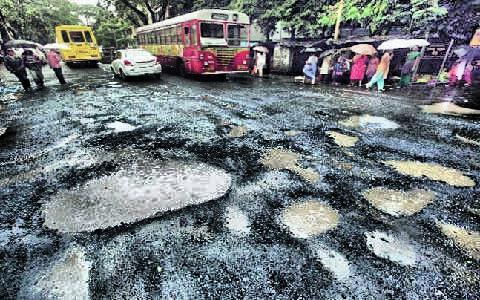pothole: (36, 153, 234, 233), (365, 145, 478, 188), (34, 240, 95, 299), (253, 140, 323, 184), (273, 193, 341, 236), (358, 181, 436, 217), (360, 226, 418, 269), (431, 218, 479, 258), (312, 241, 353, 282), (338, 109, 401, 130), (417, 100, 480, 118), (221, 203, 252, 236), (321, 125, 362, 149), (213, 116, 247, 137), (103, 119, 140, 131), (280, 126, 305, 137)
